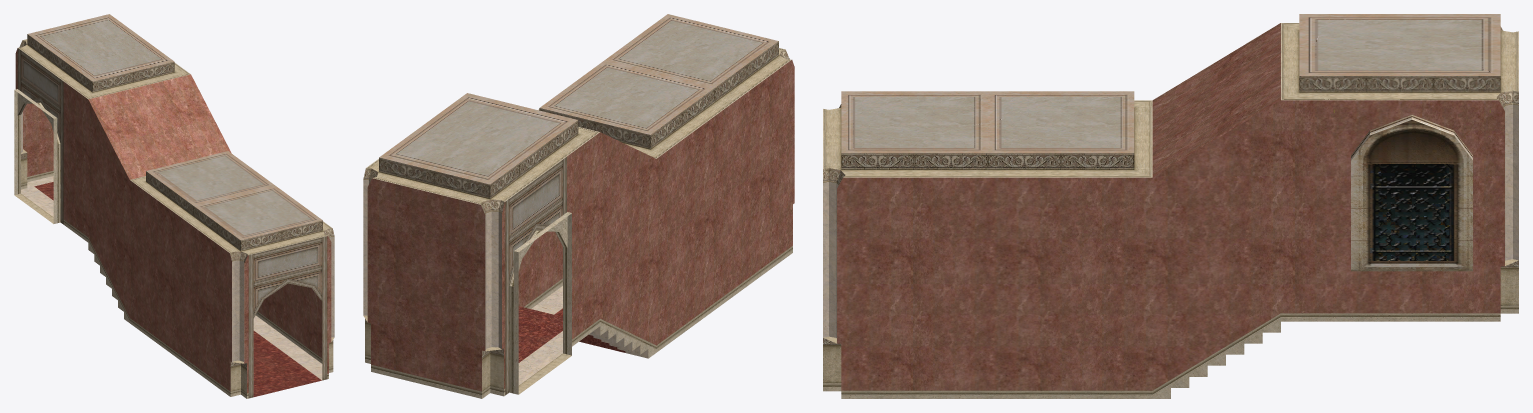
The model's file is ply_nboo_house_lg_s01_fp1_r4_foyerright_mesh_r4.fbx.
3 renders of one model, left to right at view 1: azimuth 30°, elevation 25°; view 2: azimuth 150°, elevation 25°; view 3: azimuth 270°, elevation 25°, orthographic. The views are drawn at different scales.
Visible parts, largest first — view 1: mesh_node; view 2: mesh_node; view 3: mesh_node.
Part boxes in pixels (bbox=[...]): mesh_node: bbox=[14, 14, 334, 398]; mesh_node: bbox=[363, 14, 794, 398]; mesh_node: bbox=[823, 14, 1518, 398].
Size of the model in its own units: 3.4 by 5.7 by 11.4.
